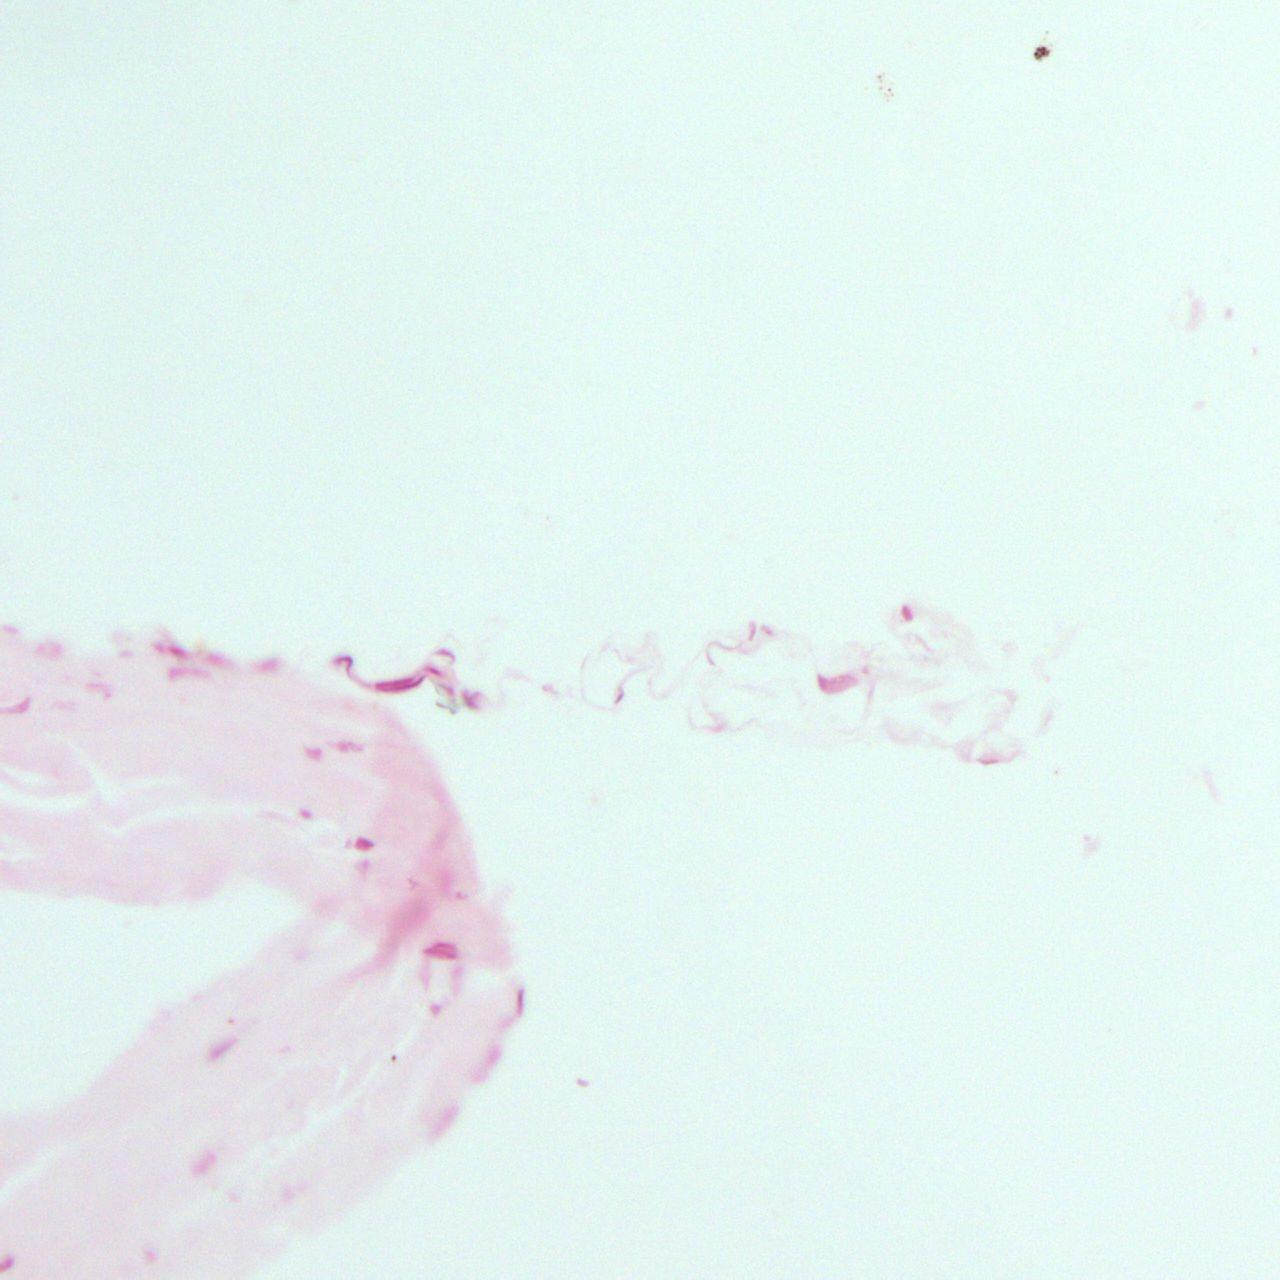dust: (1033, 47, 1049, 60), (576, 1080, 586, 1085), (392, 1055, 395, 1060)
nucleus-AC: (423, 1104, 461, 1143), (205, 1034, 238, 1063), (190, 1148, 219, 1180), (482, 1046, 506, 1070), (375, 675, 414, 689), (468, 1063, 489, 1085), (387, 680, 421, 693), (38, 644, 62, 658), (170, 668, 204, 678), (423, 949, 455, 959), (11, 700, 28, 715), (462, 693, 477, 710), (304, 745, 322, 760), (206, 651, 225, 665), (333, 656, 352, 670), (281, 1187, 297, 1201), (900, 606, 913, 622), (143, 1250, 158, 1262), (425, 942, 457, 948), (817, 675, 828, 692), (358, 858, 369, 872), (516, 989, 522, 1015), (169, 646, 184, 655), (256, 663, 275, 670), (427, 666, 440, 676), (358, 837, 370, 847), (455, 892, 470, 900), (430, 1003, 441, 1014), (408, 879, 420, 888), (614, 692, 624, 703), (2, 626, 18, 633), (300, 809, 313, 817), (338, 741, 347, 751), (90, 683, 104, 690), (120, 652, 132, 656), (227, 1017, 236, 1024), (445, 687, 452, 695), (436, 651, 450, 654), (104, 692, 113, 697)
